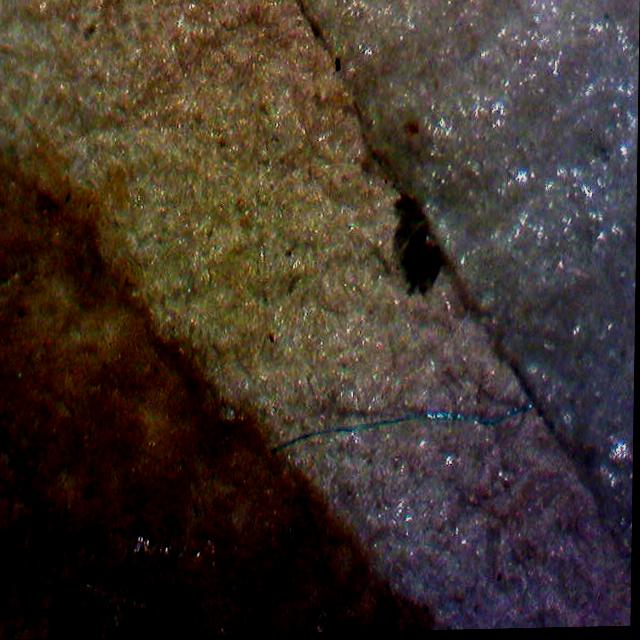microplastic: (275, 402, 537, 454)
